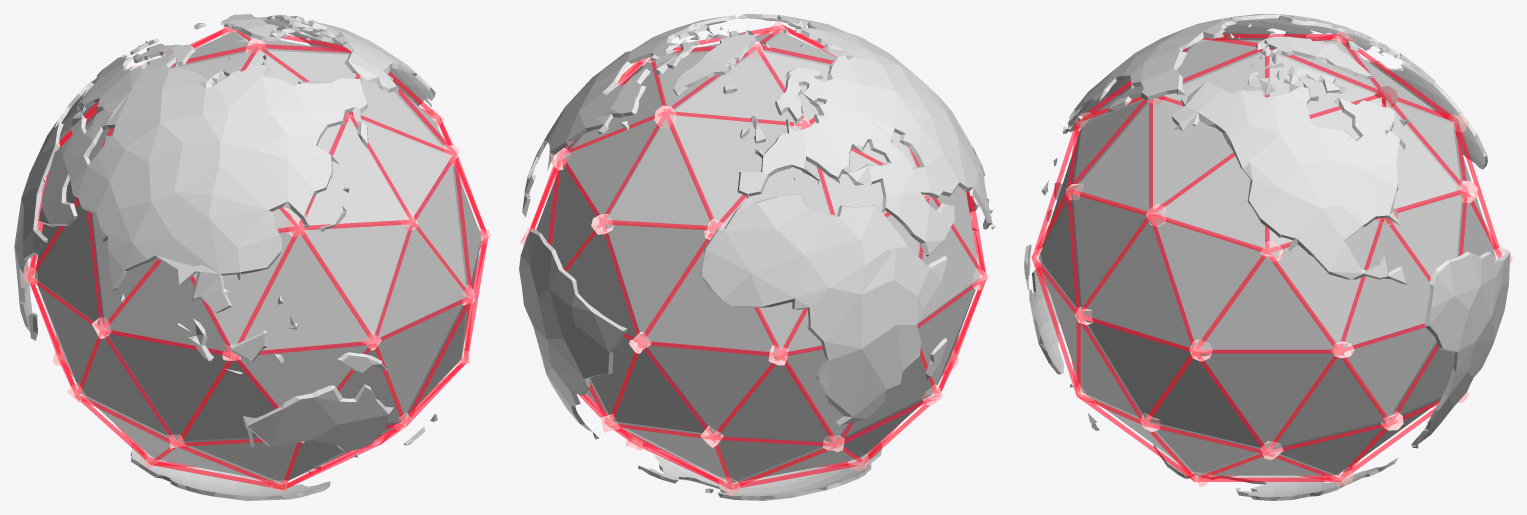
3 renders of one model, left to right at view 1: azimuth 30°, elevation 25°; view 2: azimuth 150°, elevation 25°; view 3: azimuth 270°, elevation 25°, orthographic.
Parts seen in each view (by area): view 1: world_0, world.001_1, world.002_2; view 2: world_0, world.001_1, world.002_2; view 3: world_0, world.001_1, world.002_2.
Boxes of the visible parts, x1=… form: world_0: x1=28, y1=27, x2=487, y2=489; world.001_1: x1=14, y1=14, x2=437, y2=500; world.002_2: x1=23, y1=26, x2=490, y2=491; world_0: x1=527, y1=25, x2=986, y2=489; world.001_1: x1=519, y1=14, x2=995, y2=500; world.002_2: x1=520, y1=22, x2=988, y2=496; world_0: x1=1032, y1=34, x2=1501, y2=481; world.001_1: x1=1024, y1=14, x2=1510, y2=500; world.002_2: x1=1031, y1=31, x2=1512, y2=486.
Bounding box in the file's own units: 2.01 × 2.09 × 2.09.
